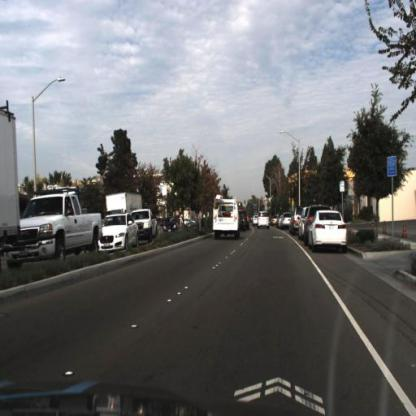car: (6, 190, 103, 267), (308, 209, 355, 257), (95, 211, 139, 257), (207, 193, 243, 242), (135, 207, 165, 247), (161, 215, 185, 242), (159, 211, 179, 240), (302, 205, 314, 250), (253, 209, 273, 234), (297, 203, 307, 247), (288, 209, 298, 240), (280, 209, 291, 235)
truck: (104, 184, 148, 224)
